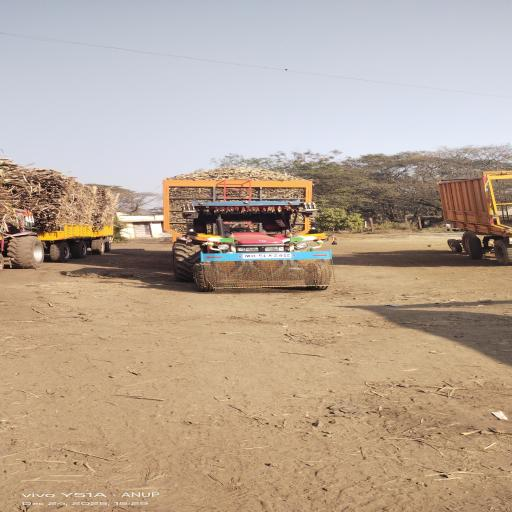number_plate: (240, 250, 302, 263)
